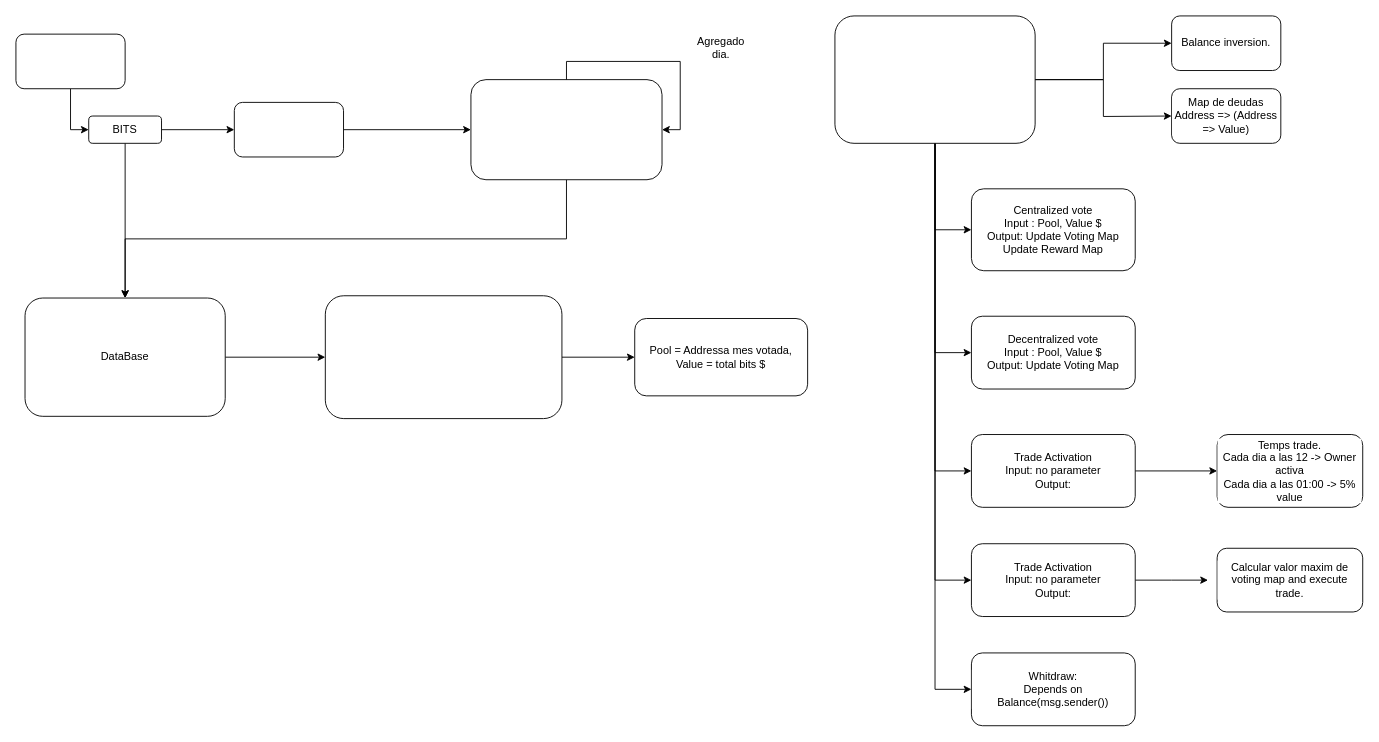
The diagram is 1379 pixels wide and 742 high, and some of its shapes have lost their labels. Each missing label, with the centre of its shape:
"Formato donaciones" goes at [288,129].
"Llist amb elements del tipo {msg:[address1,address2],bits:value}" goes at [566,129].
"Map: Address => Z add => sum(w_i)" goes at [443,357].
"Smart Contract: Votacions & ERC20" goes at [934,79].
"Twitch" goes at [70,61].
